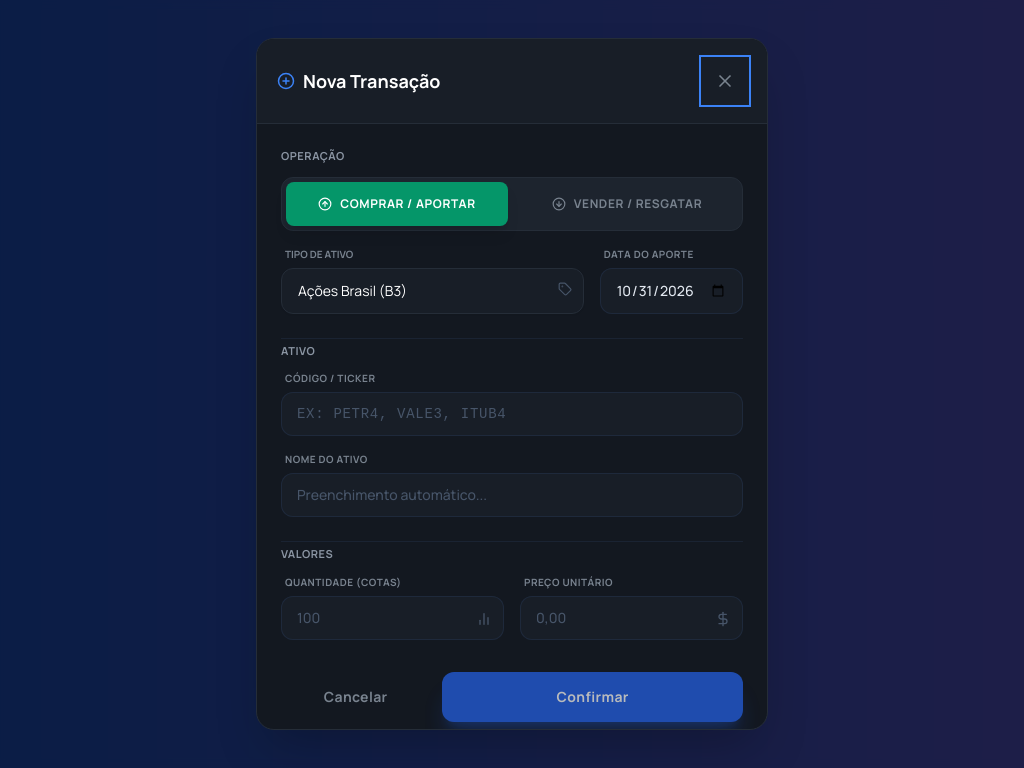
Scenario: modo venda (SELL) › exibe dropdown de ativos em vez do campo de busca
The width and height of the screenshot is (1024, 768).
Click the button "Vender / Resgatar" at {"x": 627, "y": 204}, box [516,182,738,226]
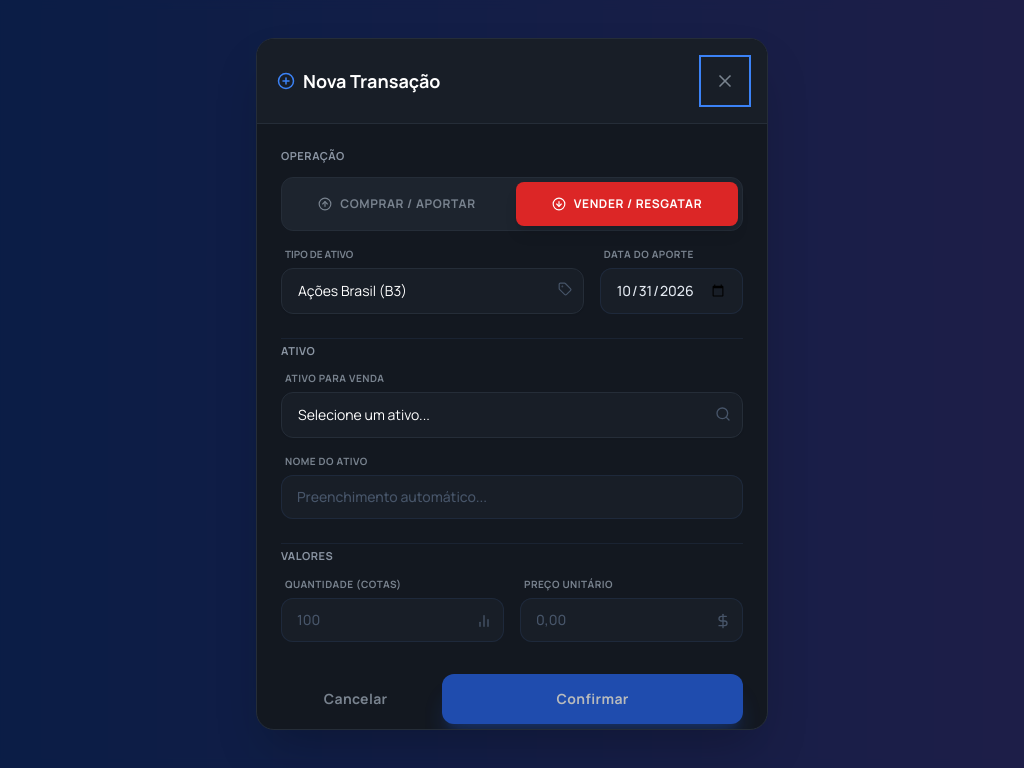
Now the label labelled "Código / Ticker" is gone
